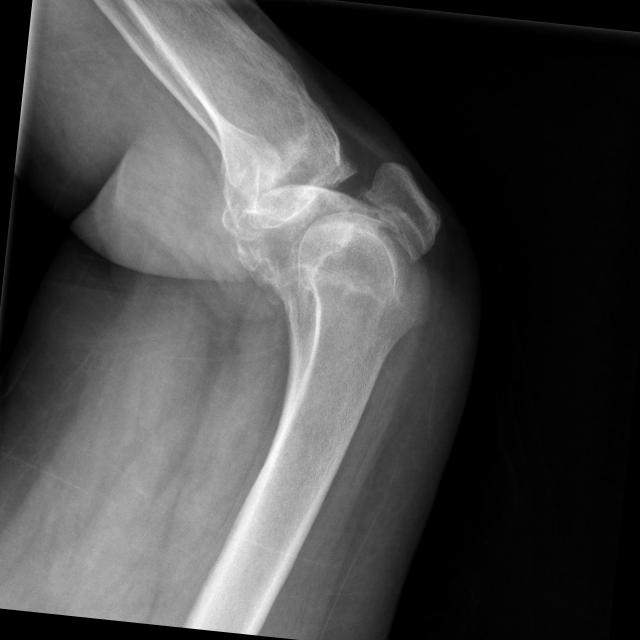Knee: (200, 132, 450, 352)
